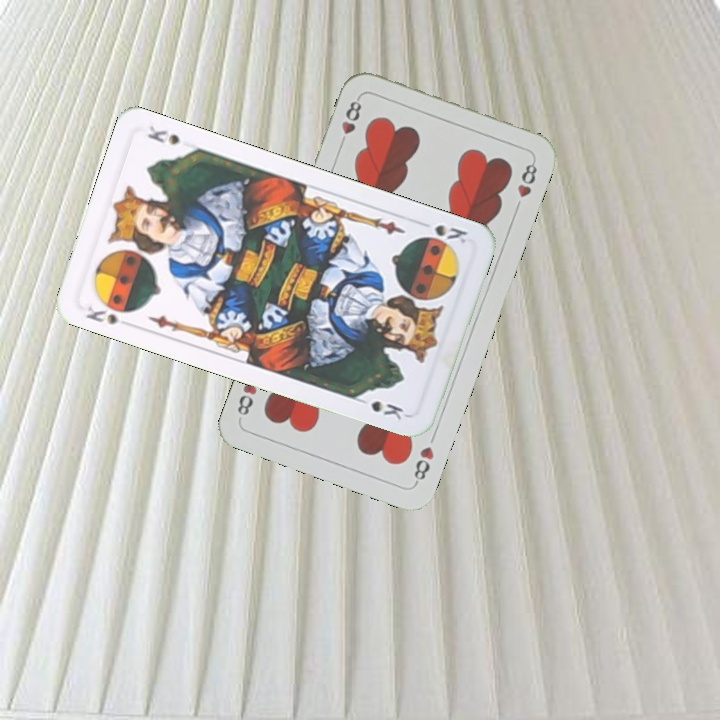H8: (335, 93, 364, 150), (409, 442, 437, 487)
SK: (78, 296, 136, 327), (430, 220, 470, 246)
